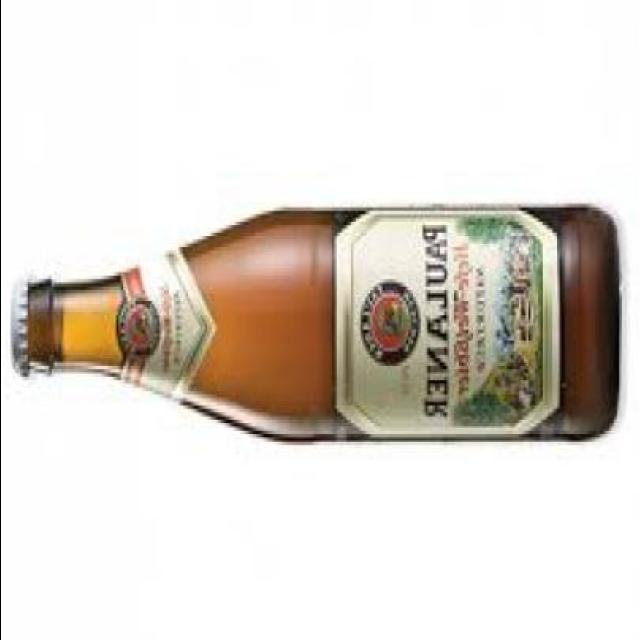kaca: (27, 208, 618, 434)
